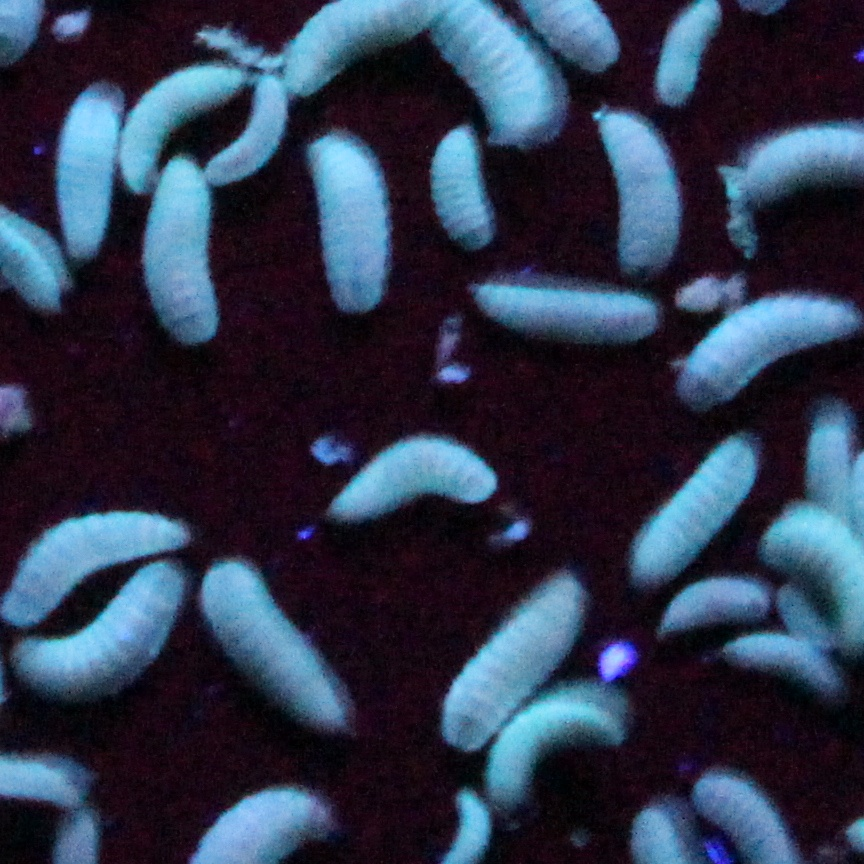larve: (202, 562, 342, 728), (442, 568, 574, 739), (30, 562, 182, 697), (8, 503, 187, 614), (685, 296, 857, 401), (637, 439, 753, 582), (487, 699, 626, 816), (138, 162, 218, 349), (594, 108, 683, 275), (302, 136, 385, 315), (128, 49, 233, 180), (335, 437, 489, 523), (468, 281, 654, 347), (426, 124, 492, 258), (218, 77, 283, 186), (66, 89, 108, 255), (729, 636, 836, 700), (658, 576, 765, 636)
